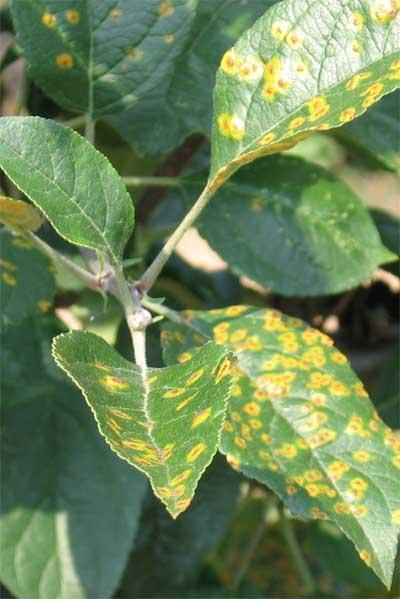Apple rust leaf: (151, 279, 399, 592), (44, 314, 244, 526), (193, 2, 400, 185), (9, 2, 203, 147)
